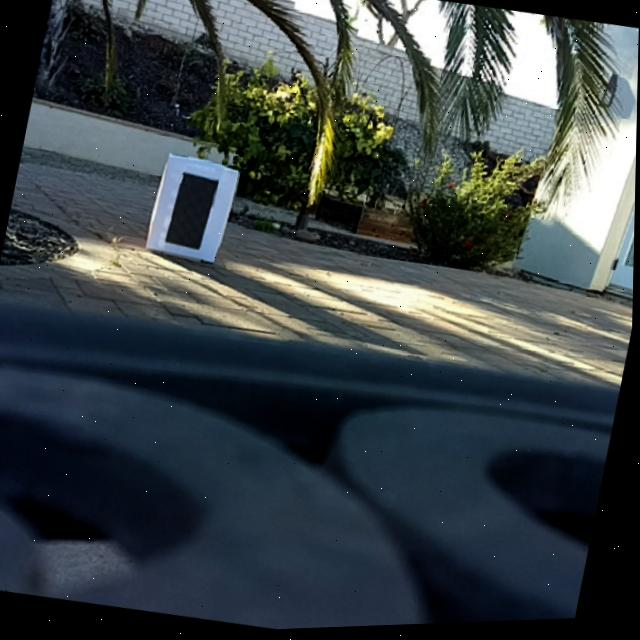led: (164, 169, 222, 254)
